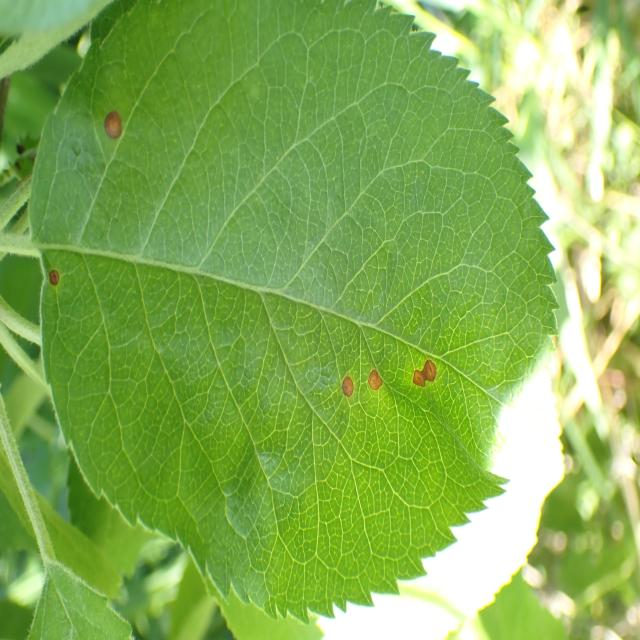Black Rot: (92, 92, 129, 155), (404, 346, 441, 409), (325, 357, 357, 409), (366, 362, 390, 414), (47, 246, 69, 296)
